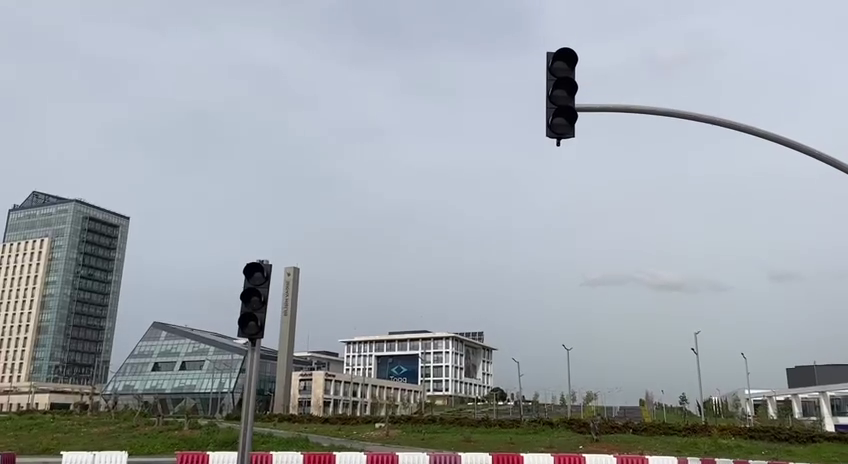trafficLight: (541, 41, 583, 149), (234, 256, 277, 343)
